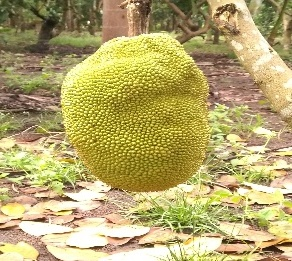Mit: (64, 35, 211, 188)
